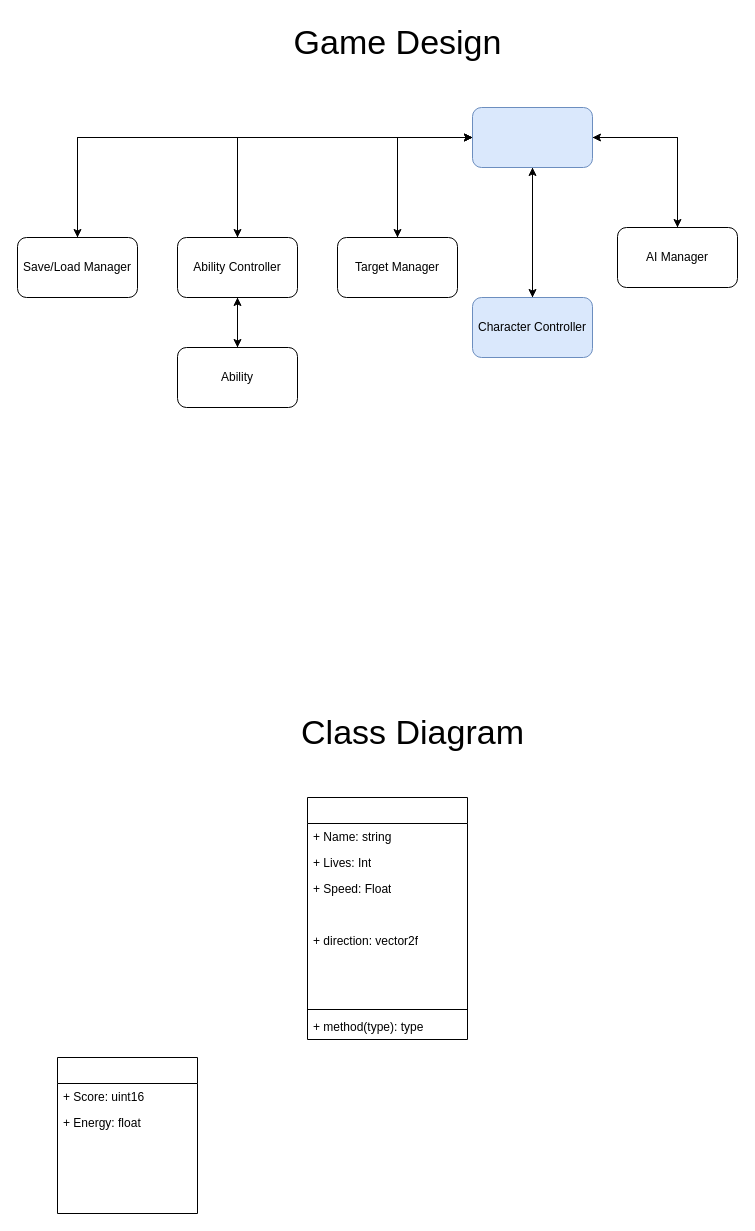
This 755x1231 diagram has some shape labels left out. The shapes that lost their labels are listed below. From the top down, each one's box as (x1, y1, x2, y2) in pixels, then its label:
(472, 106, 592, 168): GameManager
(306, 796, 468, 1040): Character
(56, 1056, 198, 1214): Player
